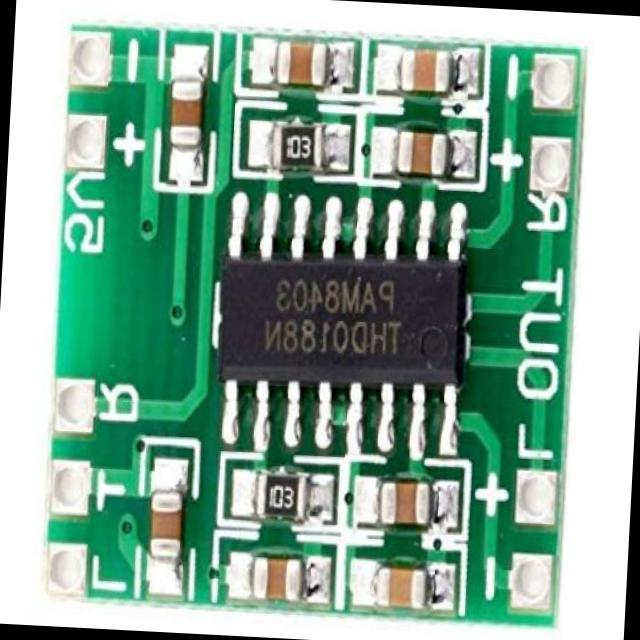IC: (210, 231, 482, 423)
capacitor: (362, 480, 446, 540), (389, 129, 461, 185), (168, 54, 206, 158), (362, 568, 438, 618), (394, 46, 463, 97), (239, 556, 315, 600), (269, 40, 331, 90), (149, 478, 185, 562)
resistor: (266, 114, 335, 174), (245, 472, 317, 512)
